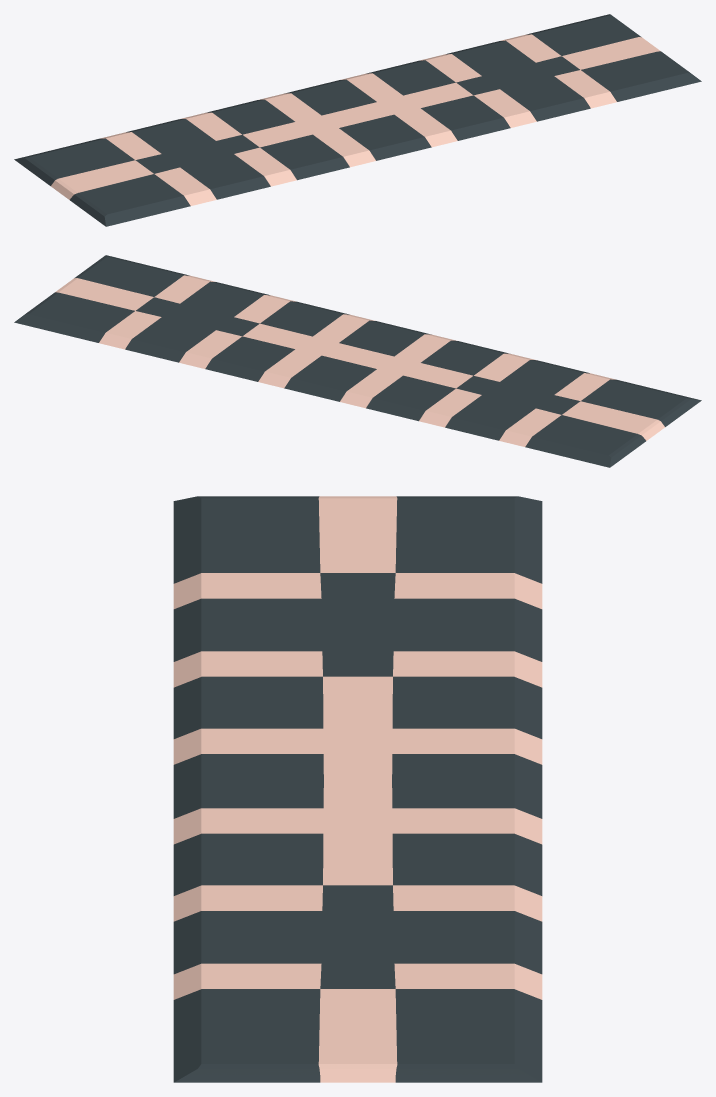
Rendered from RugSmall.fbx.
The picture shows the model from 3 angles, top to bottom: view 1: azimuth 30°, elevation 25°; view 2: azimuth 150°, elevation 25°; view 3: azimuth 270°, elevation 25°; orthographic projection. The views are drawn at different scales.
Visible parts, largest first — view 1: RugSmall; view 2: RugSmall; view 3: RugSmall.
Part boxes in pixels (left/top/right/bottom): RugSmall: left=14, top=14, right=701, bottom=226; RugSmall: left=14, top=255, right=701, bottom=467; RugSmall: left=173, top=496, right=542, bottom=1082.
Bounding box in the file's own units: 245 × 2.13 × 65.55.
